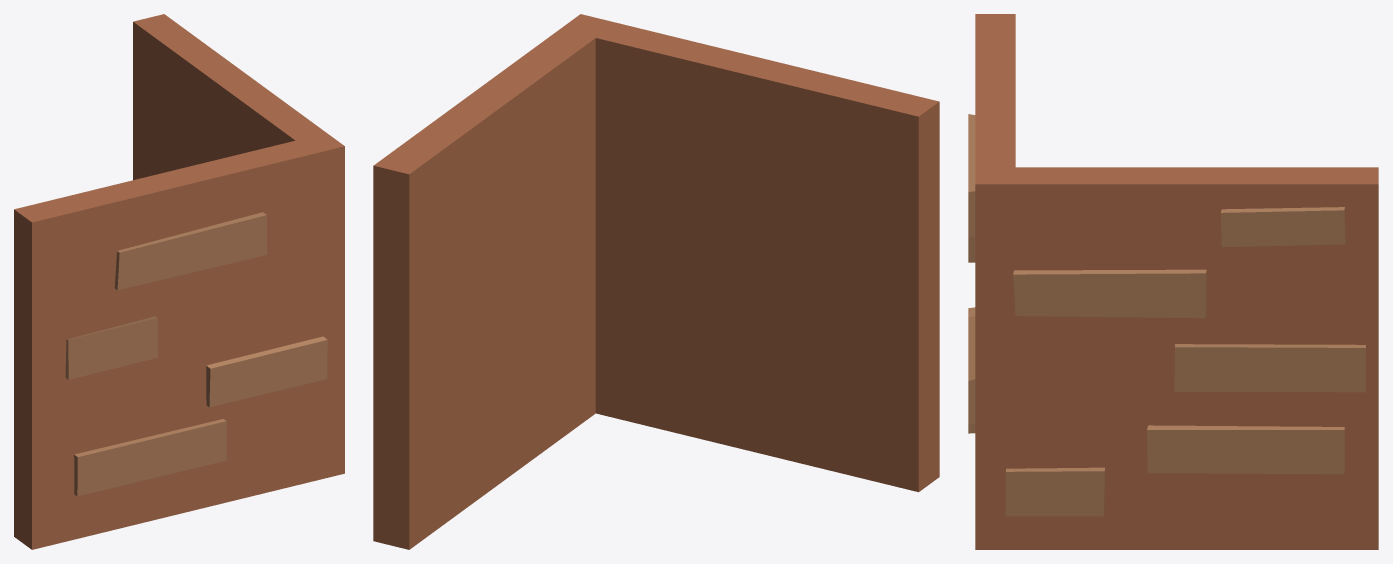
File: BrickV3CornerHalfWall.fbx
3 views of the same model, side by side, from view 1: azimuth 30°, elevation 25°; view 2: azimuth 150°, elevation 25°; view 3: azimuth 270°, elevation 25° (orthographic). The views are drawn at different scales.
Parts seen in each view (by area): view 1: BrickV3CornerHalfWall; view 2: BrickV3CornerHalfWall; view 3: BrickV3CornerHalfWall.
Boxes of the visible parts, bbox=[...] form: BrickV3CornerHalfWall: bbox=[14, 14, 344, 549]; BrickV3CornerHalfWall: bbox=[373, 14, 939, 549]; BrickV3CornerHalfWall: bbox=[968, 14, 1378, 549].
Bounding box in the file's own units: 102 × 100 × 102.
